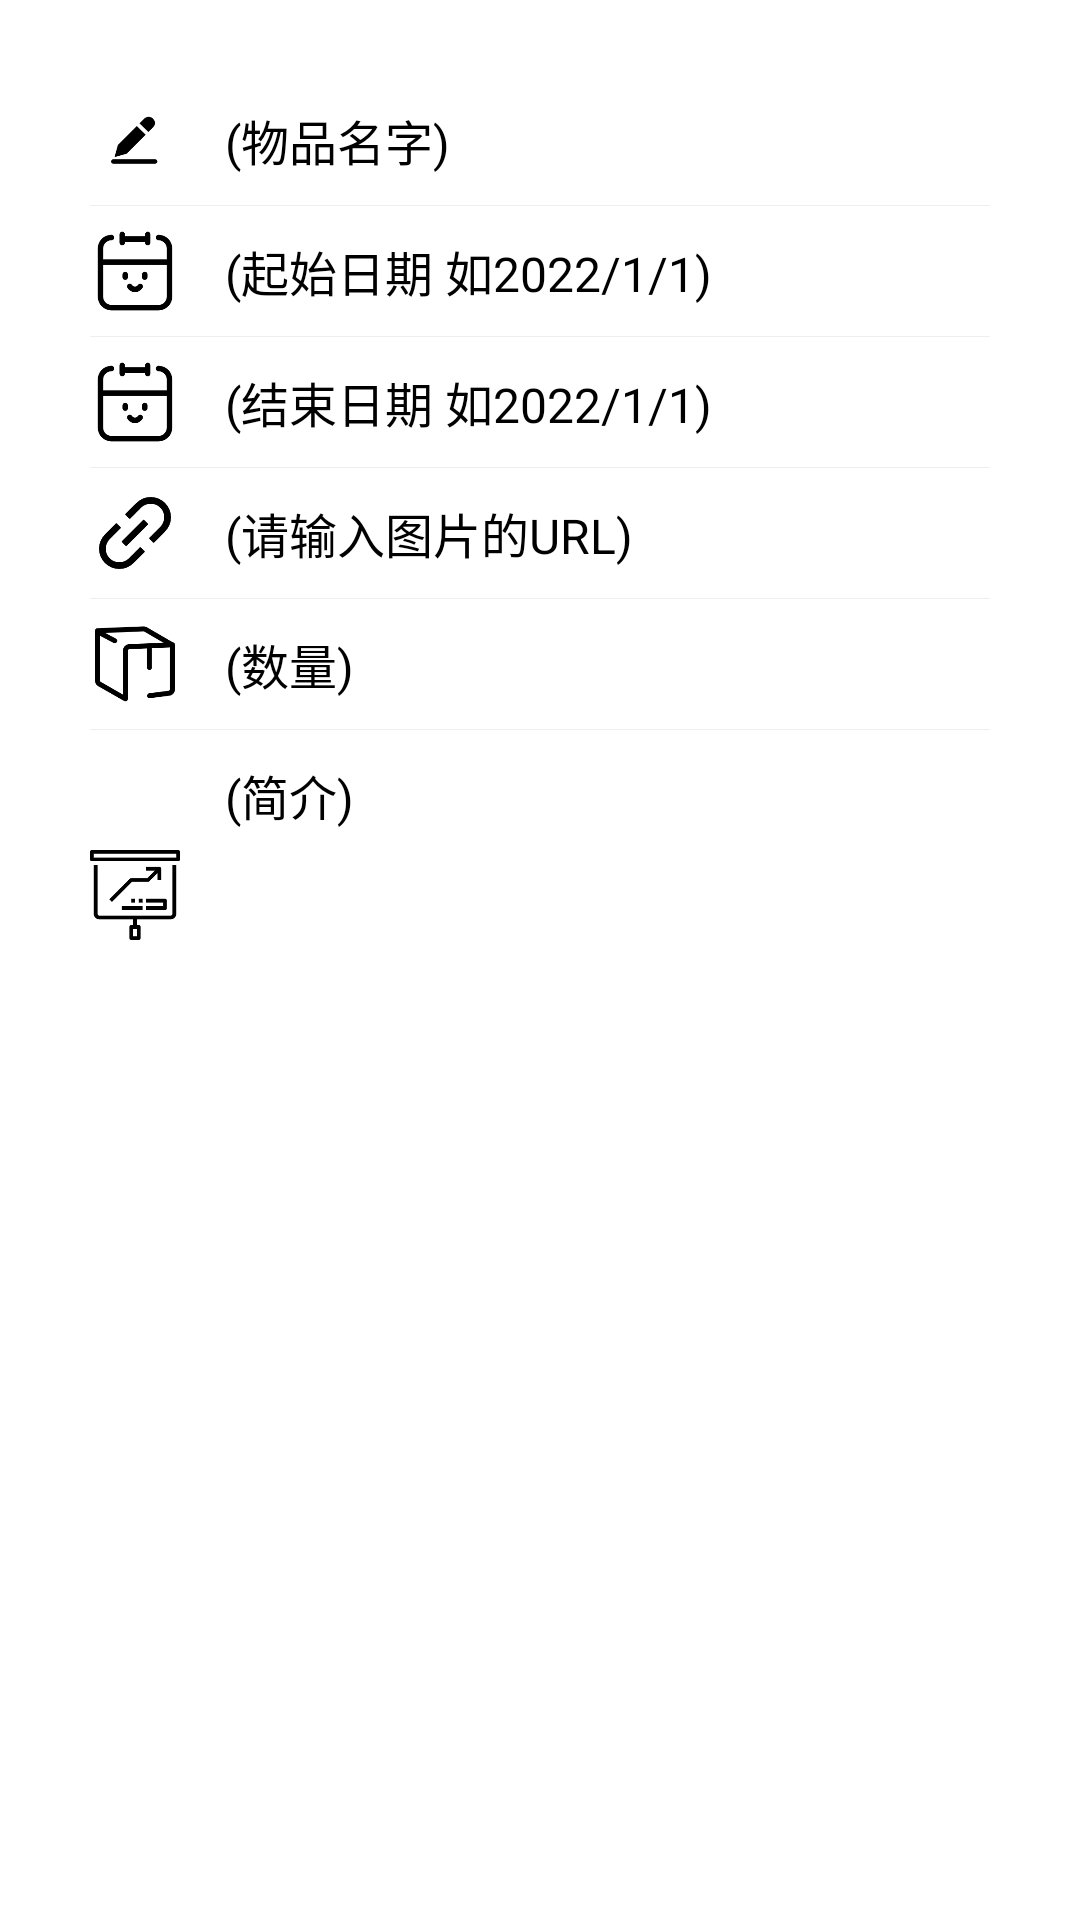

Icon bounding boxes for this 1080 x 1920 phone screenshot, format (x1, y1, x2, y2):
calendar: (97, 231, 173, 311), (97, 362, 173, 442)
presentation: (90, 850, 180, 940)
url: (99, 497, 171, 569)
